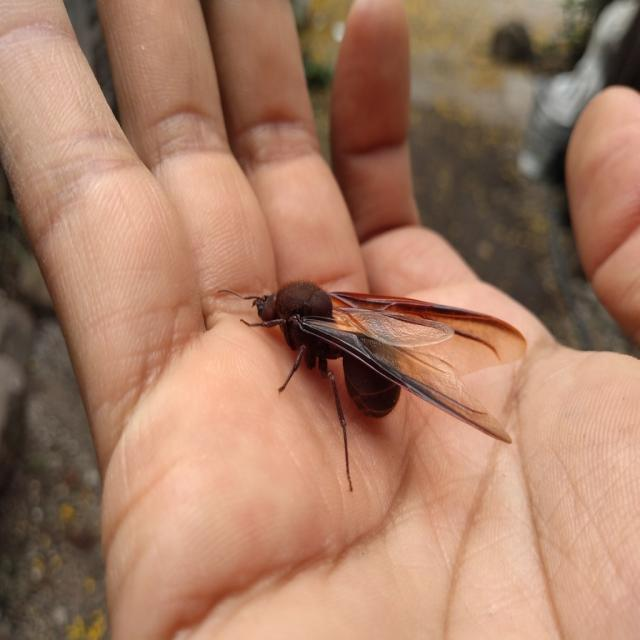Alive-Female-Alate: (217, 279, 527, 492)
